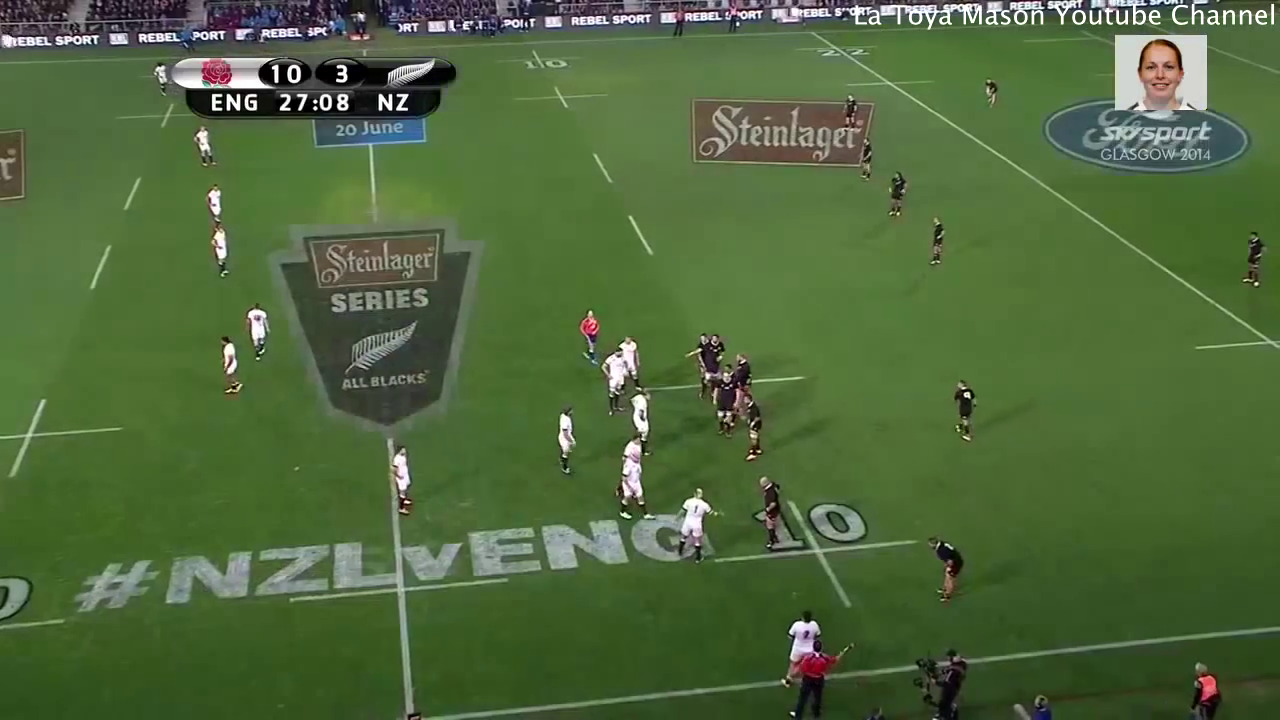10_metre: (711, 495, 930, 611), (631, 344, 807, 427), (1, 389, 129, 485), (1, 563, 73, 635), (105, 99, 201, 134), (511, 82, 616, 112), (492, 47, 589, 74)
player: (774, 604, 826, 692), (668, 481, 720, 568), (385, 434, 425, 522), (746, 468, 786, 554), (614, 448, 658, 526), (923, 530, 965, 606), (596, 343, 633, 421), (239, 296, 280, 366), (625, 386, 661, 463), (681, 328, 727, 387), (548, 398, 580, 481), (1237, 225, 1269, 305), (739, 386, 773, 461), (707, 367, 740, 440), (215, 327, 245, 400), (208, 215, 237, 288), (882, 160, 912, 228), (189, 116, 222, 176), (614, 331, 646, 392), (950, 376, 980, 441), (575, 303, 603, 371), (923, 210, 950, 275), (201, 178, 232, 231), (728, 350, 763, 394), (145, 53, 173, 103), (612, 426, 650, 462), (854, 132, 879, 184), (838, 83, 862, 137), (979, 74, 1002, 111), (695, 332, 712, 374), (724, 364, 740, 388)
